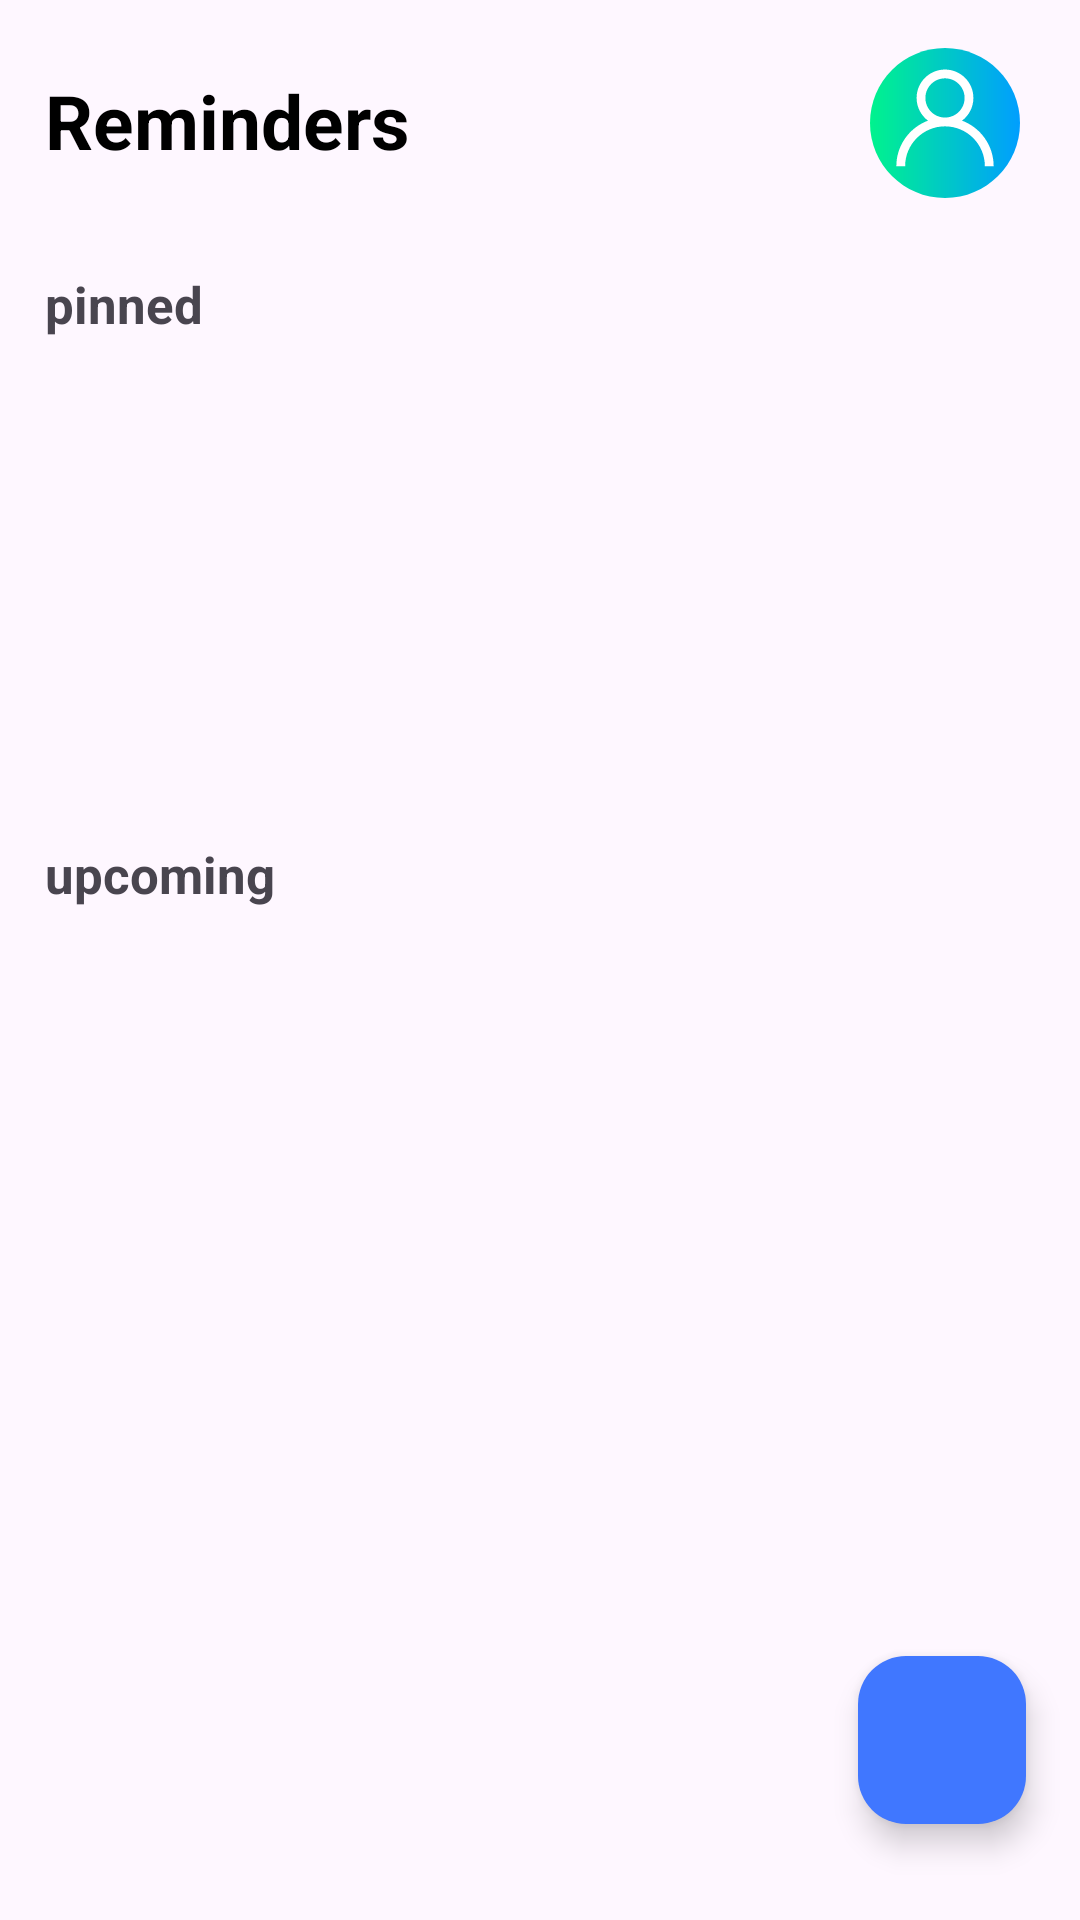

Icon bounding boxes for this 1080 × 1920 phone screenshot, format bbox=(x1, y1, x2, y2):
user: bbox=(870, 48, 1020, 198)
